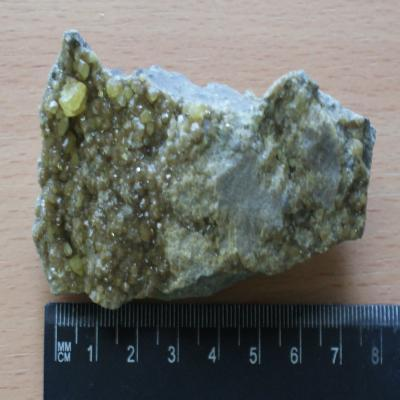mineralogy: (32, 31, 378, 312)
